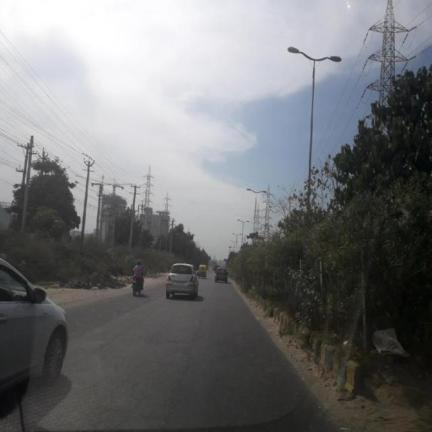Road: (23, 274, 334, 431)
